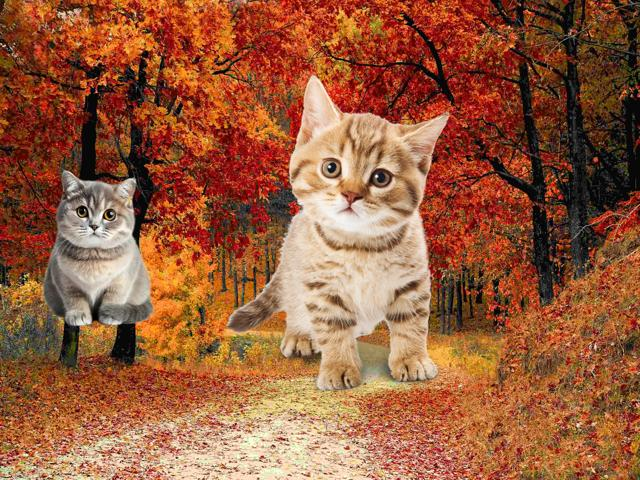cat: (197, 75, 478, 391), (6, 153, 190, 337)
